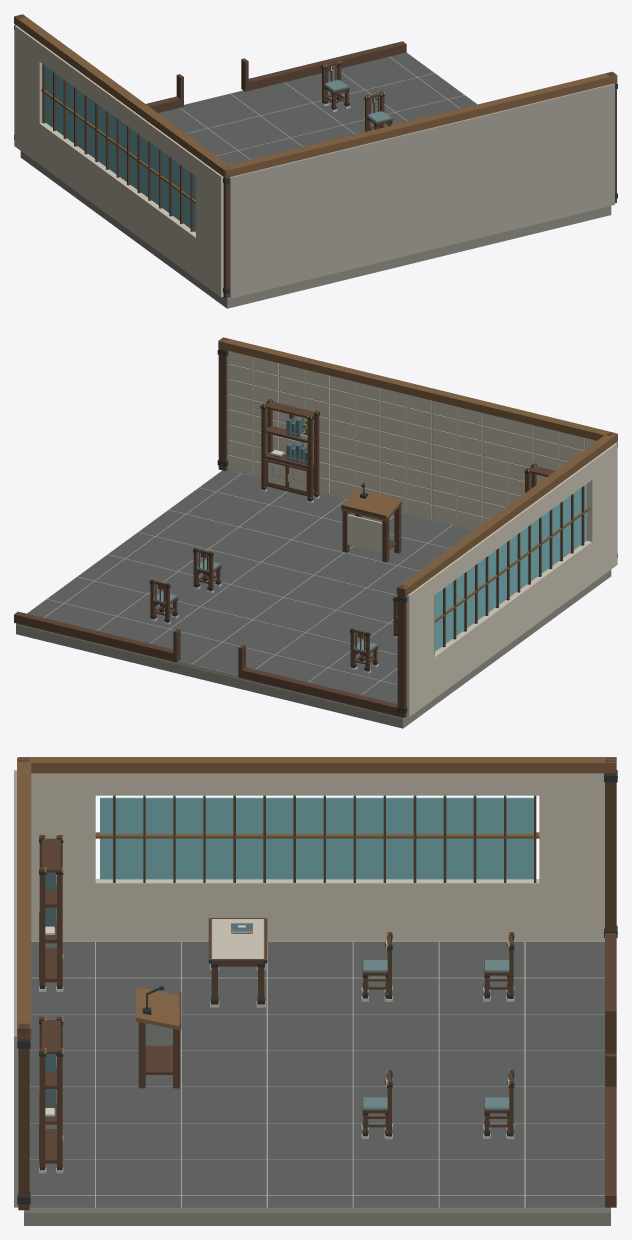
The picture shows the model from 3 angles, top to bottom: view 1: azimuth 30°, elevation 25°; view 2: azimuth 150°, elevation 25°; view 3: azimuth 270°, elevation 25°; orthographic projection. The views are drawn at different scales.
Parts seen in each view (by area): view 1: 真实窗洞、木梁与切角房间墙, 分层实心台基与独立石铺面, 餐椅 (×2); view 2: 真实窗洞、木梁与切角房间墙, 分层实心台基与独立石铺面, 书架书柜 · 用途材质派生, 连续斜承稿台、开放后格与话筒, 餐椅 (×3); view 3: 分层实心台基与独立石铺面, 真实窗洞、木梁与切角房间墙, 书架书柜 · 用途材质派生 (×2), 餐椅 (×4), 连续斜承稿台、开放后格与话筒, 餐桌桌架.
Boxes of the visible parts, x1,y1,x2,y2 form: 真实窗洞、木梁与切角房间墙: (14, 14, 617, 298); 分层实心台基与独立石铺面: (20, 52, 611, 308); 餐椅 (×2): (321, 60, 392, 131); 真实窗洞、木梁与切角房间墙: (14, 337, 617, 717); 分层实心台基与独立石铺面: (16, 470, 611, 728); 书架书柜 · 用途材质派生: (260, 399, 319, 503); 连续斜承稿台、开放后格与话筒: (341, 483, 402, 562); 餐椅 (×3): (149, 547, 378, 673); 分层实心台基与独立石铺面: (24, 941, 610, 1225); 真实窗洞、木梁与切角房间墙: (14, 757, 617, 1210); 书架书柜 · 用途材质派生 (×2): (39, 835, 63, 1173); 餐椅 (×4): (361, 931, 514, 1139); 连续斜承稿台、开放后格与话筒: (135, 986, 181, 1088); 餐桌桌架: (208, 918, 267, 1007).
Bounding box in the file's own units: 9.04 × 3.08 × 8.44.
Materials: 22 (22 with a texture image).
